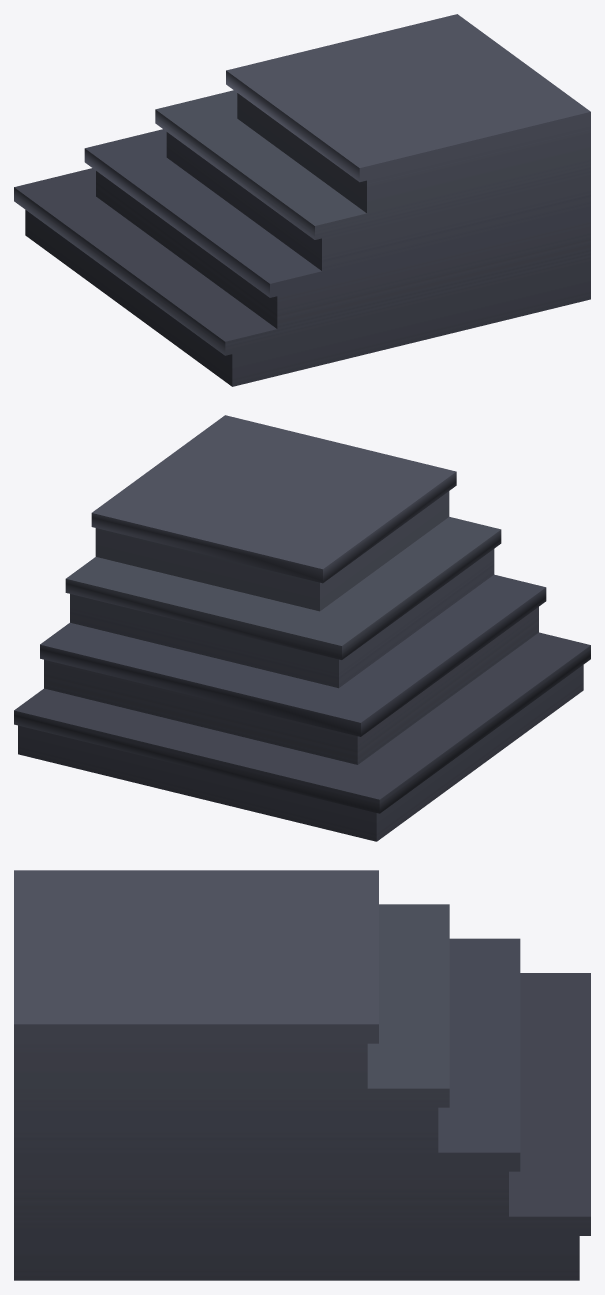
The model's file is stairs-full-corner-outer.glb.
3 renders of one model, top to bottom at view 1: azimuth 30°, elevation 25°; view 2: azimuth 150°, elevation 25°; view 3: azimuth 270°, elevation 25°, orthographic. The views are drawn at different scales.
Parts seen in each view (by area): view 1: stairs-full-corner-outer; view 2: stairs-full-corner-outer; view 3: stairs-full-corner-outer.
Boxes of the visible parts, left/top/right/bottom form: stairs-full-corner-outer: left=14, top=14, right=590, bottom=386; stairs-full-corner-outer: left=14, top=415, right=590, bottom=841; stairs-full-corner-outer: left=14, top=870, right=590, bottom=1280.
Size of the model in its own units: 1.02 by 0.5 by 1.02.
Materials: 1 (1 with a texture image).
